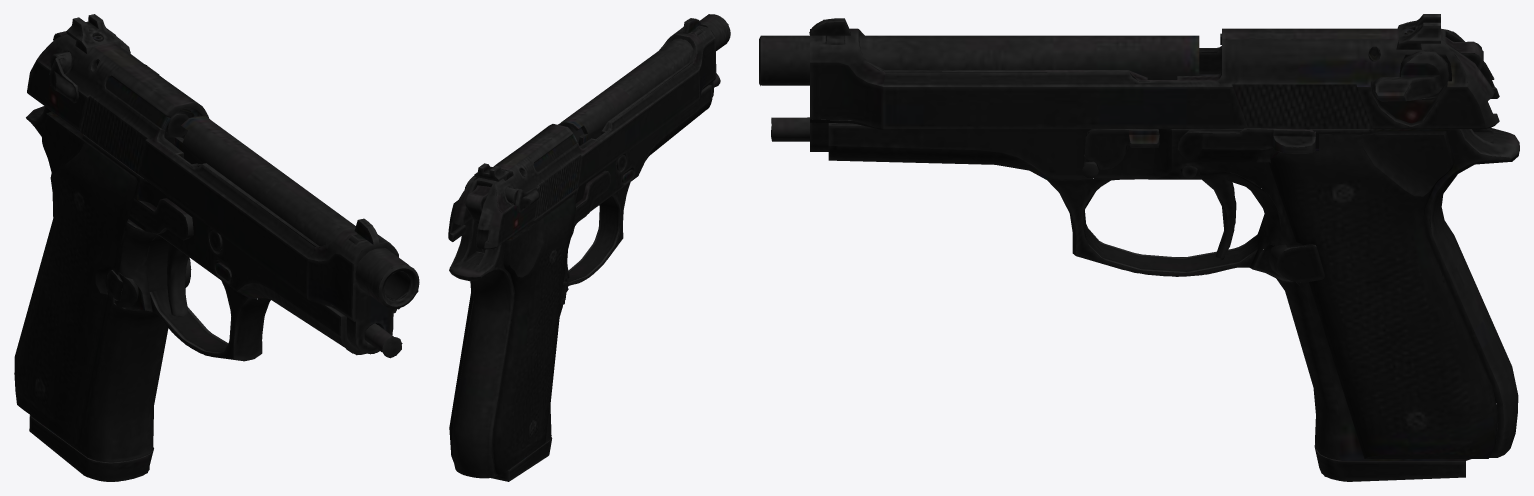
File: Pistol_Vasak.fbx
3 renders of one model, left to right at view 1: azimuth 30°, elevation 25°; view 2: azimuth 150°, elevation 25°; view 3: azimuth 270°, elevation 25°, orthographic. The views are drawn at different scales.
Visible parts, largest first — view 1: GunMesh; view 2: GunMesh; view 3: GunMesh.
Part boxes in pixels (x1,y1,x2,y2): GunMesh: (14, 14, 419, 481); GunMesh: (448, 14, 730, 481); GunMesh: (759, 14, 1519, 481).
Size of the model in its own units: 0.0364 by 0.1421 by 0.217.
Materials: 1 (1 with a texture image).
